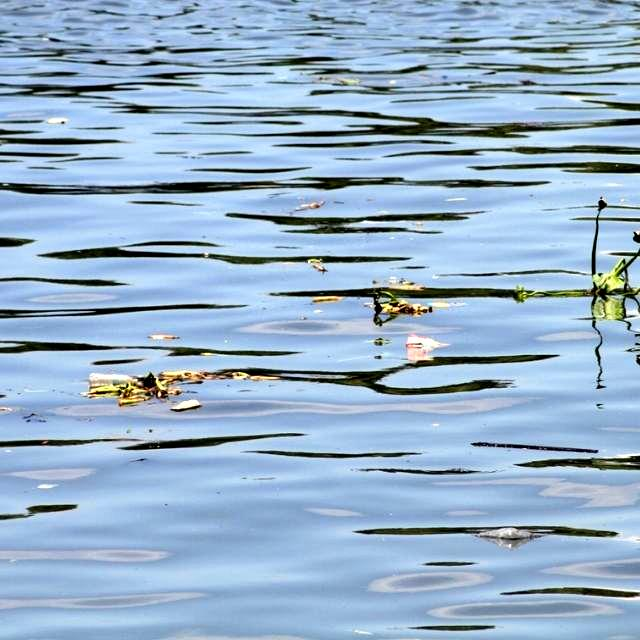water-hyacinth: (533, 200, 640, 300)
